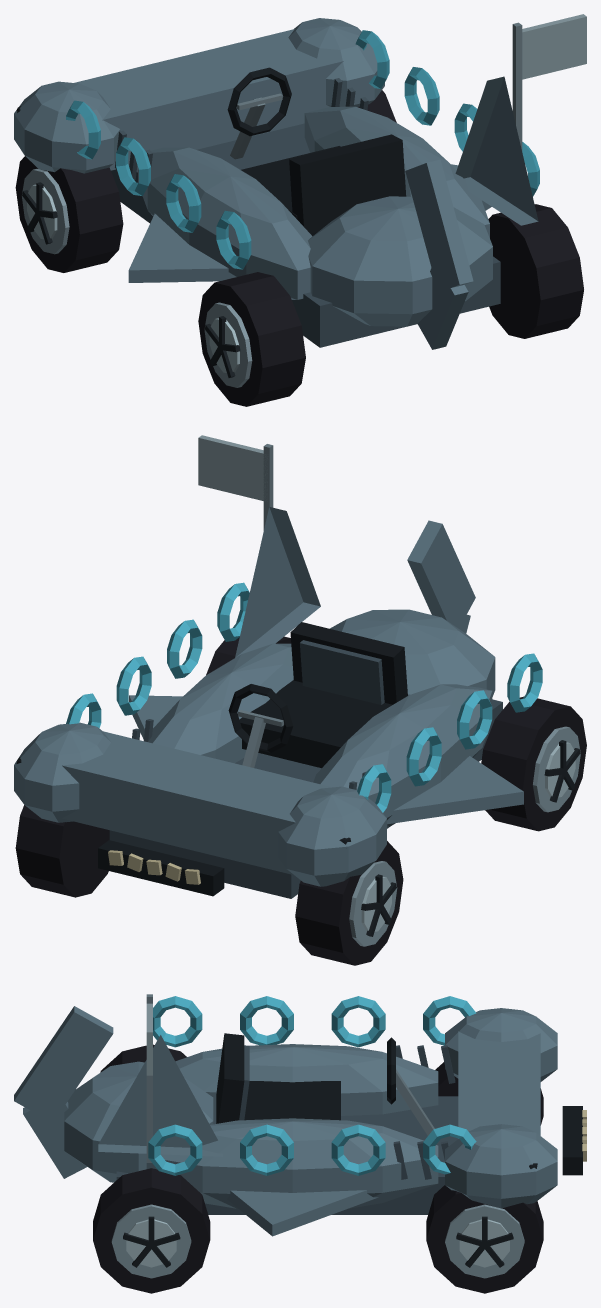
Rendered from kart.glb.
3 views of the same model, one above another, from view 1: azimuth 30°, elevation 25°; view 2: azimuth 150°, elevation 25°; view 3: azimuth 270°, elevation 25° (orthographic). The views are drawn at different scales.
Visible parts, largest first — view 1: identity-beast-hammerhead-wide-head-dorsal-fin-and-forked-ta, identity-beast-driver-cockpit, wheel-rear-left, wheel-rear-right, wheel-front-left, identity-beast-motif-water, identity-beast-motif-flag; view 2: identity-beast-hammerhead-wide-head-dorsal-fin-and-forked-ta, identity-beast-driver-cockpit, wheel-rear-left, identity-beast-motif-water, wheel-front-left, wheel-front-right, identity-beast-motif-flag; view 3: identity-beast-hammerhead-wide-head-dorsal-fin-and-forked-ta, wheel-rear-right, identity-beast-motif-water, wheel-front-right, identity-beast-driver-cockpit, identity-beast-motif-flag, wheel-rear-left, wheel-front-left.
Boxes of the visible parts, left/top/right/bottom form: identity-beast-hammerhead-wide-head-dorsal-fin-and-forked-ta: left=14, top=18, right=538, bottom=349; identity-beast-driver-cockpit: left=227, top=67, right=406, bottom=236; wheel-rear-left: left=198, top=272, right=305, bottom=406; wheel-rear-right: left=488, top=204, right=583, bottom=338; wheel-front-left: left=15, top=156, right=123, bottom=272; identity-beast-motif-water: left=66, top=30, right=539, bottom=269; identity-beast-motif-flag: left=512, top=14, right=586, bottom=151; identity-beast-hammerhead-wide-head-dorsal-fin-and-forked-ta: left=14, top=507, right=523, bottom=898; identity-beast-driver-cockpit: left=228, top=622, right=407, bottom=768; wheel-rear-left: left=481, top=696, right=586, bottom=831; identity-beast-motif-water: left=66, top=582, right=542, bottom=812; wheel-front-left: left=295, top=841, right=403, bottom=965; wheel-front-right: left=15, top=805, right=109, bottom=897; identity-beast-motif-flag: left=198, top=435, right=273, bottom=530; identity-beast-hammerhead-wide-head-dorsal-fin-and-forked-ta: left=14, top=1006, right=586, bottom=1236; wheel-rear-right: left=93, top=1168, right=210, bottom=1293; identity-beast-motif-water: left=148, top=996, right=476, bottom=1175; wheel-front-right: left=426, top=1185, right=543, bottom=1293; identity-beast-driver-cockpit: left=216, top=1033, right=434, bottom=1135; identity-beast-motif-flag: left=146, top=994, right=152, bottom=1162; wheel-rear-left: left=100, top=1044, right=186, bottom=1072; wheel-front-left: left=435, top=1062, right=543, bottom=1125.
Size of the model in its own units: 2.26 by 1.7 by 3.13.
